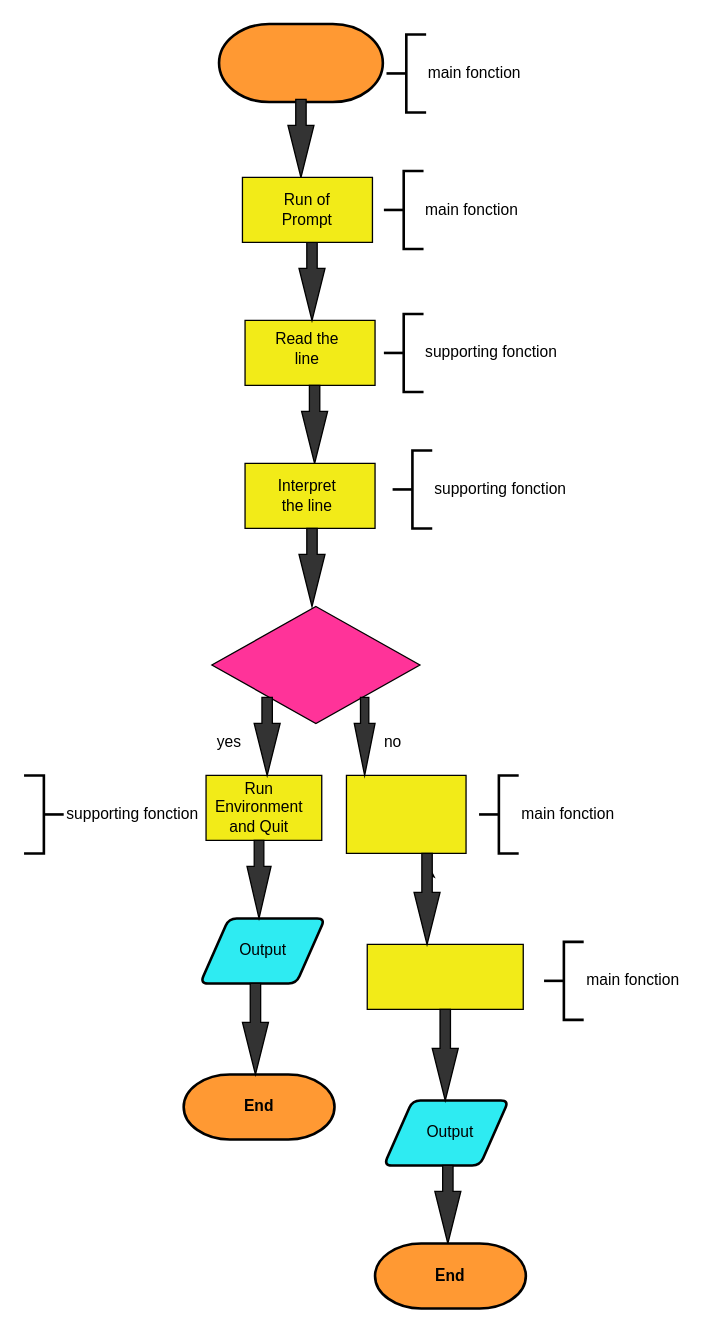
This 701x1331 diagram has some shape labels left out. The shapes that lost their labels are listed below. From the top down, each one's box as (x1, y1, x2, y2) in pixels, then its label:
(217, 22, 384, 103): Start
(211, 605, 420, 723): in-Built True or false ?
(345, 774, 466, 853): Fork (create) a child process
(366, 943, 523, 1009): Run program
